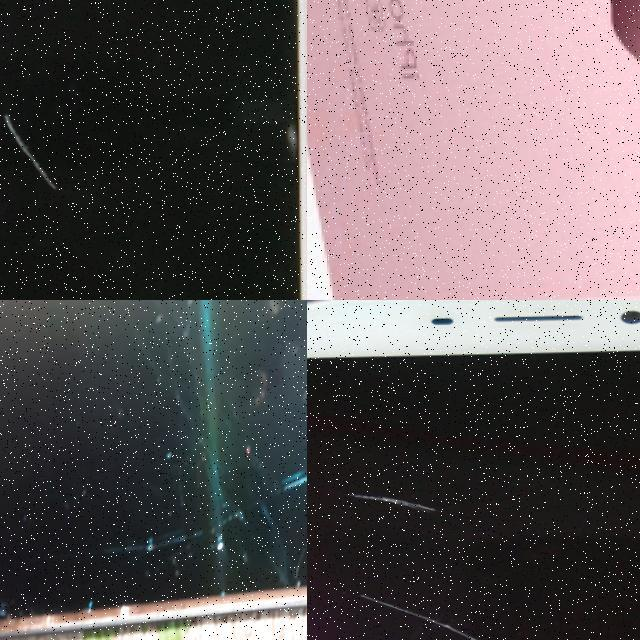scratch: (0, 104, 94, 206), (349, 589, 508, 640), (348, 491, 440, 521), (267, 105, 307, 169)
screen crack: (80, 354, 307, 640)
